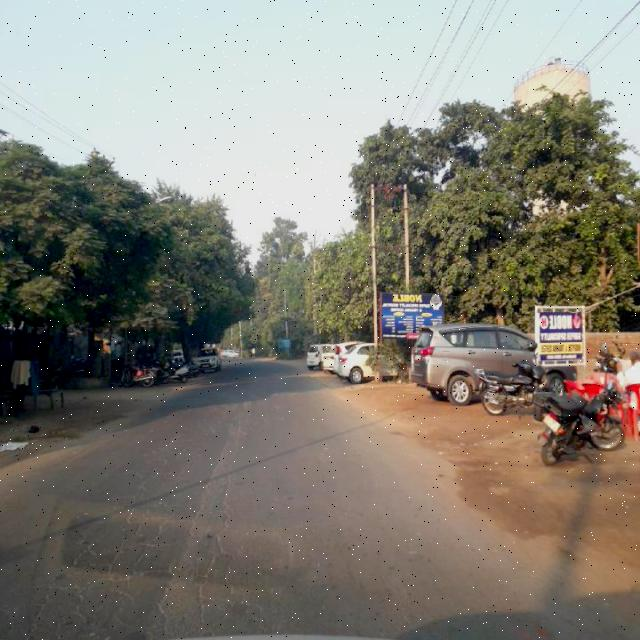D20: (23, 463, 271, 637)
